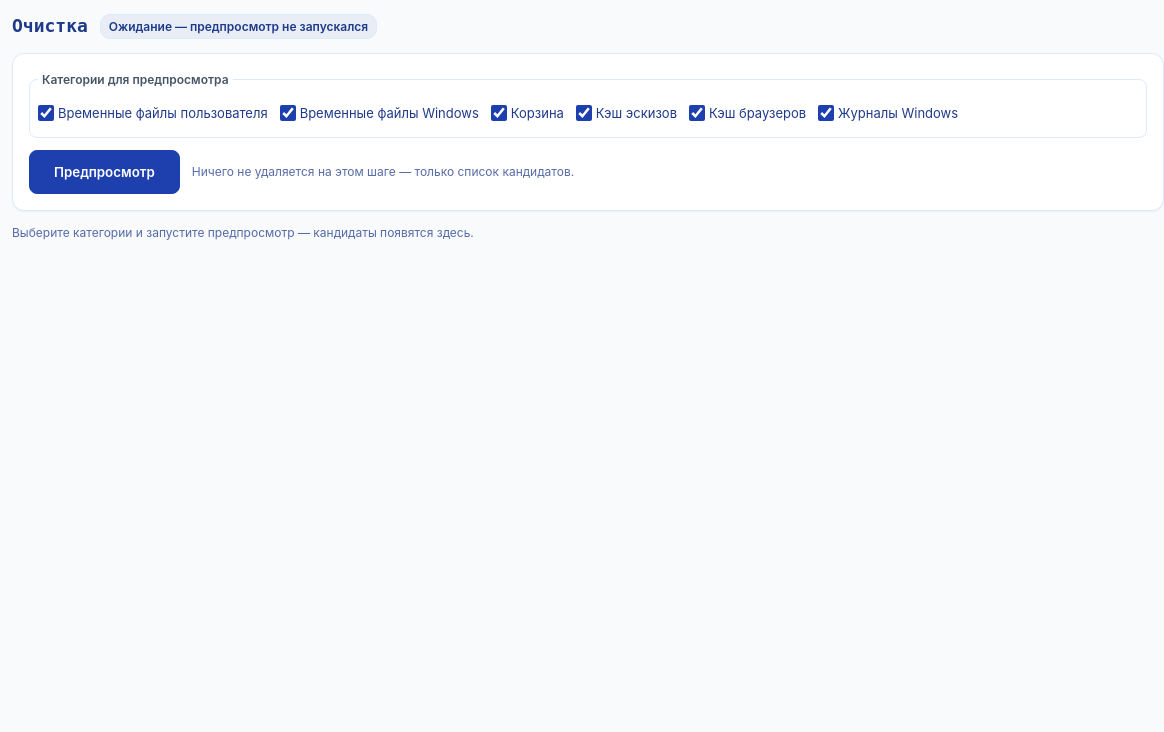
Test: cleaner — CleanerPage (jsdom project) › separates ok, empty, partial and unavailable sources without fake zero bytes
This screenshot has width=1164, height=732.
Click the button "Предпросмотр" at (104, 172), box [29,150,180,194]
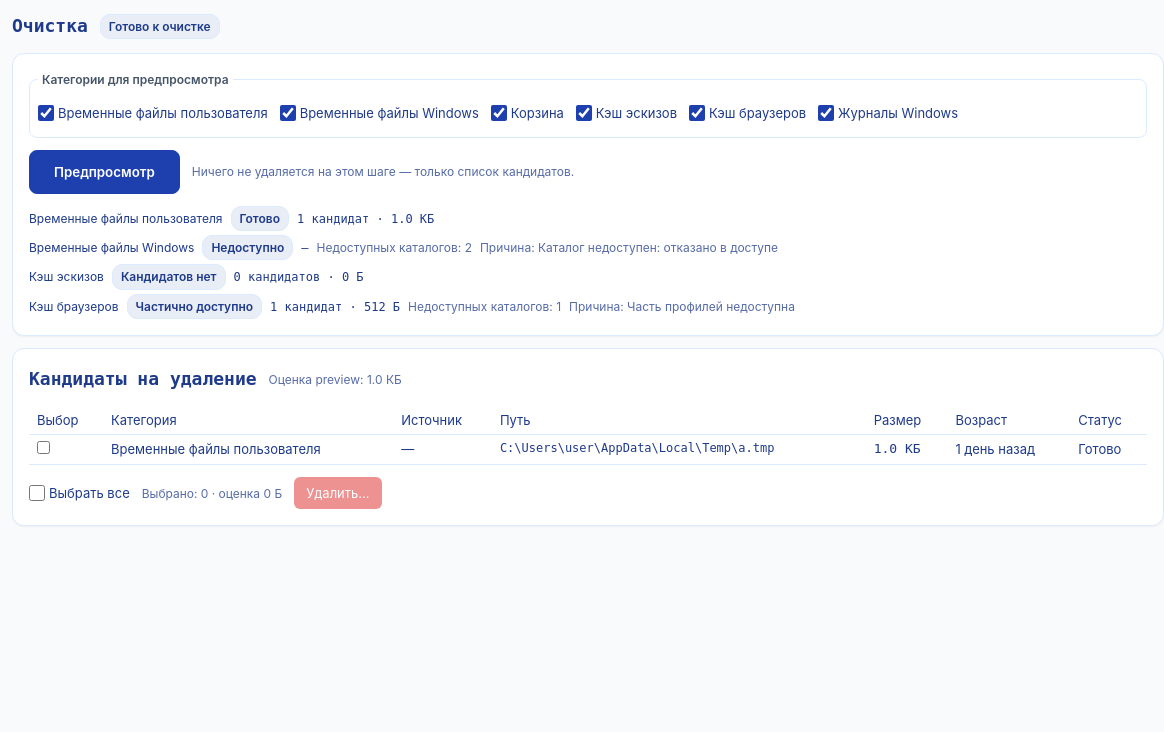
Now the heading "Кандидаты на удаление" is shown, box [29,365,257,394]
Now the list item "Временные файлы Windows" shows "Недоступно", box [211,240,284,255]
Now the list item "Временные файлы Windows" shows "Причина: Каталог недоступен: отказано в доступе", box [29,235,778,260]
